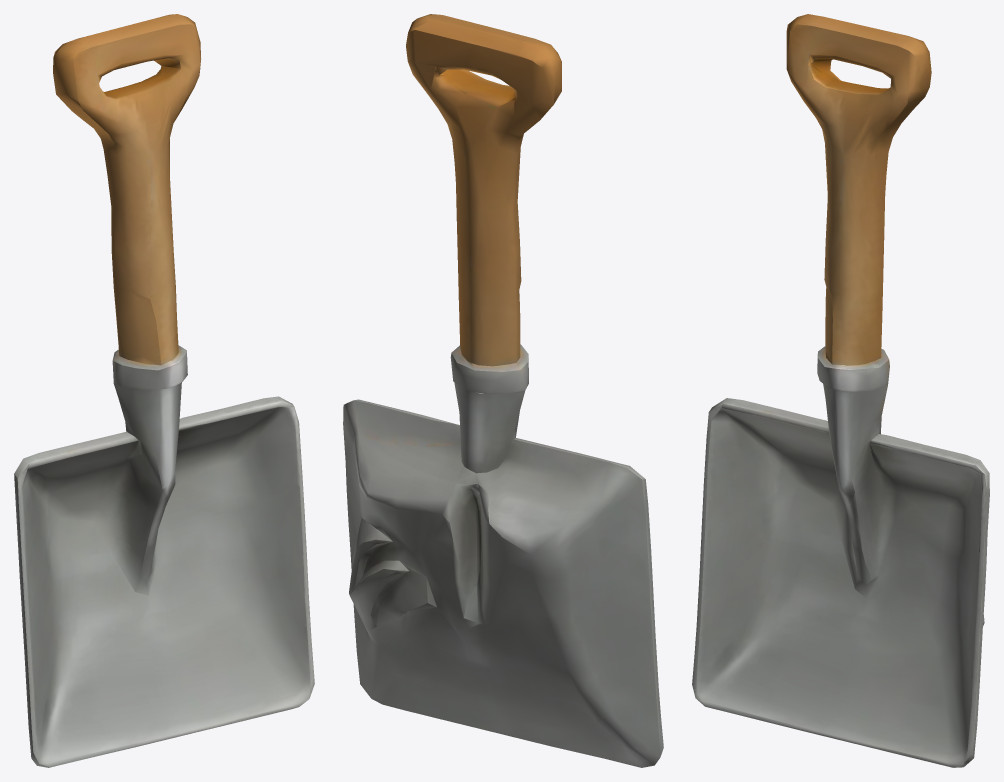
File: shovel.glb
3 views of the same model, side by side, from view 1: azimuth 30°, elevation 25°; view 2: azimuth 150°, elevation 25°; view 3: azimuth 330°, elevation 25° (orthographic). The views are drawn at different scales.
Visible parts, largest first — view 1: model; view 2: model; view 3: model.
Boxes of the visible parts, <box> form: model: <box>14,14,314,767</box>; model: <box>343,14,663,767</box>; model: <box>692,14,989,767</box>.
Bounding box in the file's own units: 0.8171 × 1.9 × 0.2548.
Materials: 1 (1 with a texture image).
